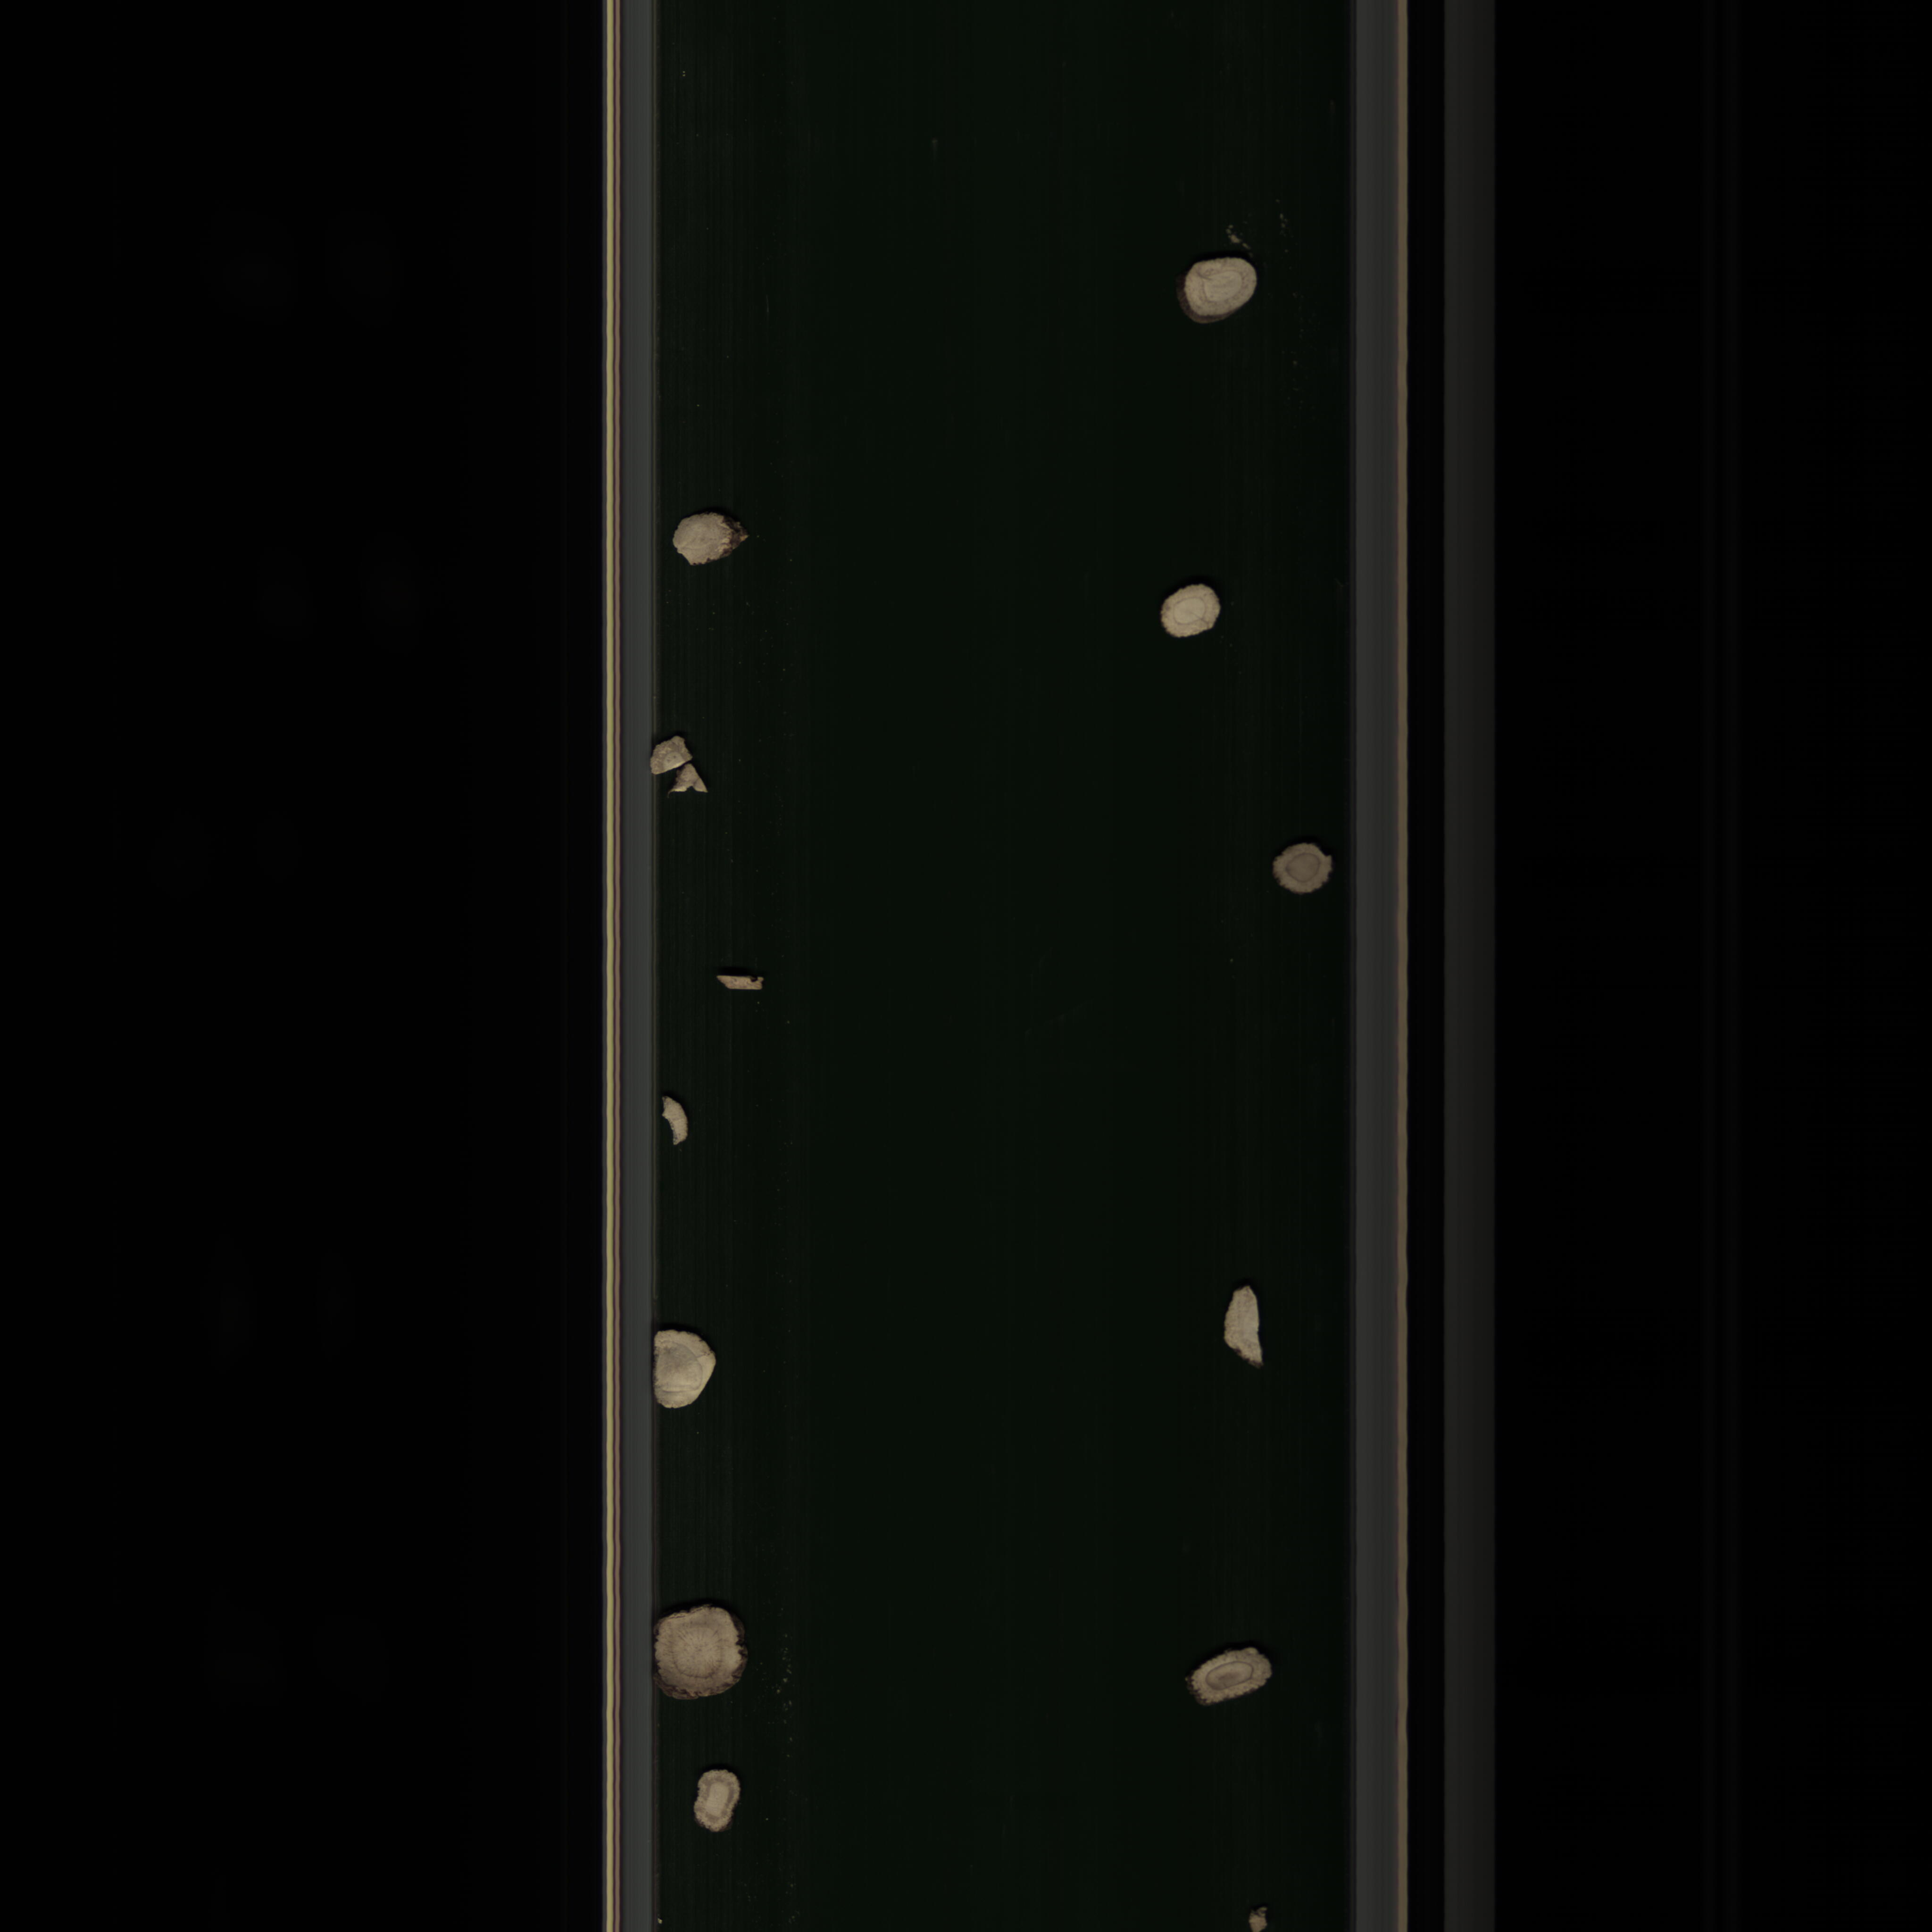debris: (644, 1322, 725, 1422), (663, 504, 759, 582), (1219, 1277, 1276, 1371), (649, 729, 708, 800), (709, 966, 773, 1001), (656, 1088, 692, 1152)
distortion: (1178, 1645, 1277, 1709)
